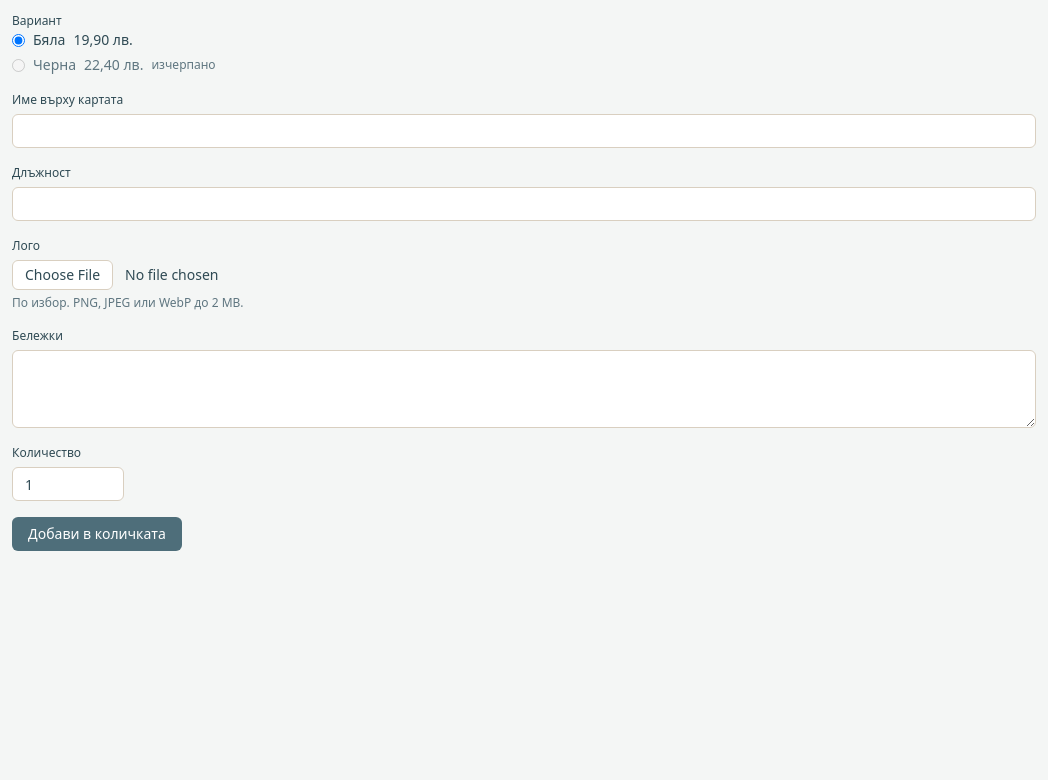
it: AddToCartForm › sends the folded line and shows the action message
In the field labelled "Име върху картата": (524, 131) left=12, top=114, right=1036, bottom=148, type "Иван Петров"
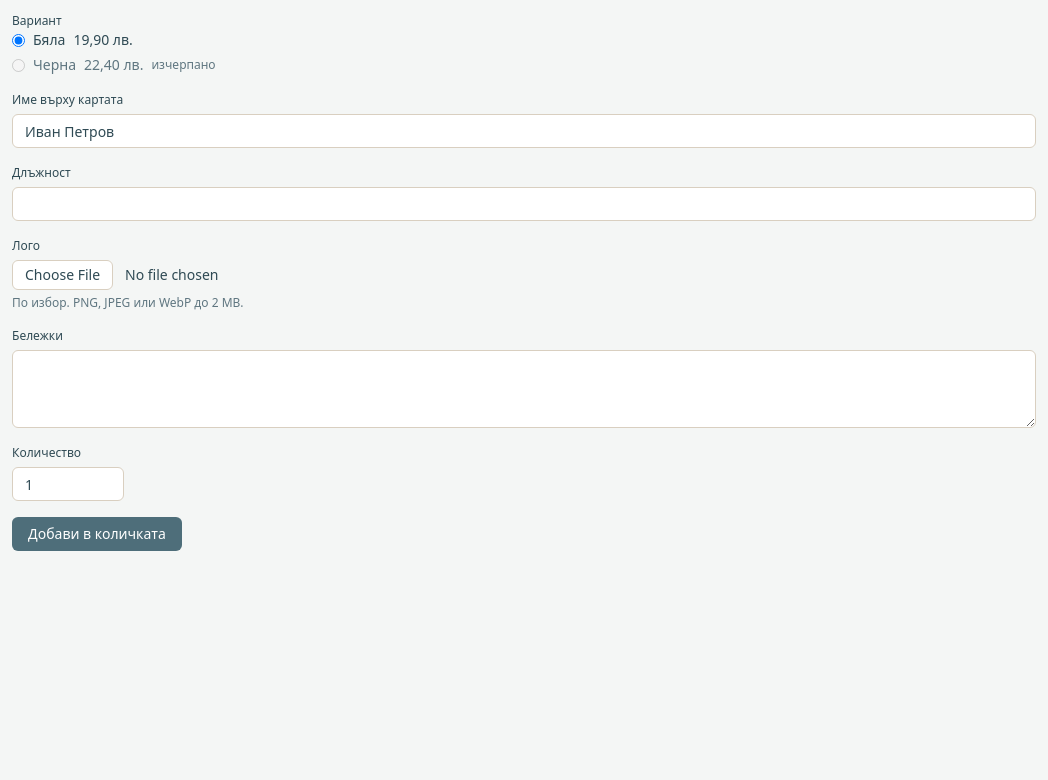
Replace the text in the number field labelled "Количество" with "3": (68, 484) left=12, top=467, right=124, bottom=501
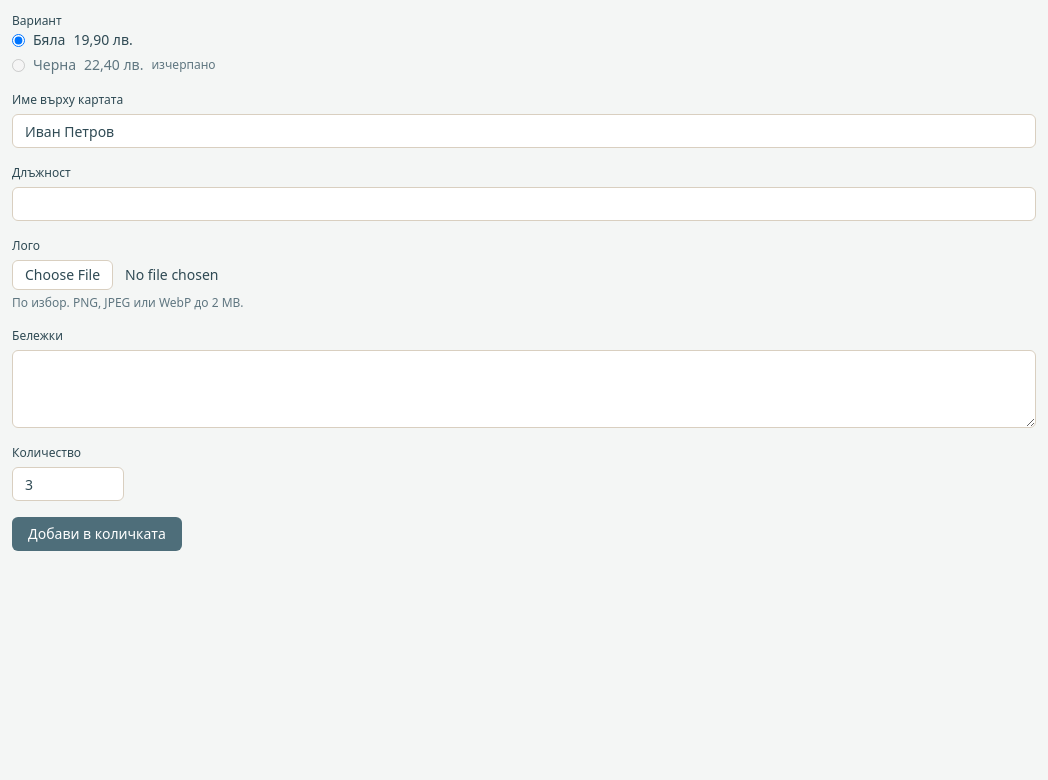
Submit the form from the button "Добави в количката", box left=12, top=517, right=182, bottom=551
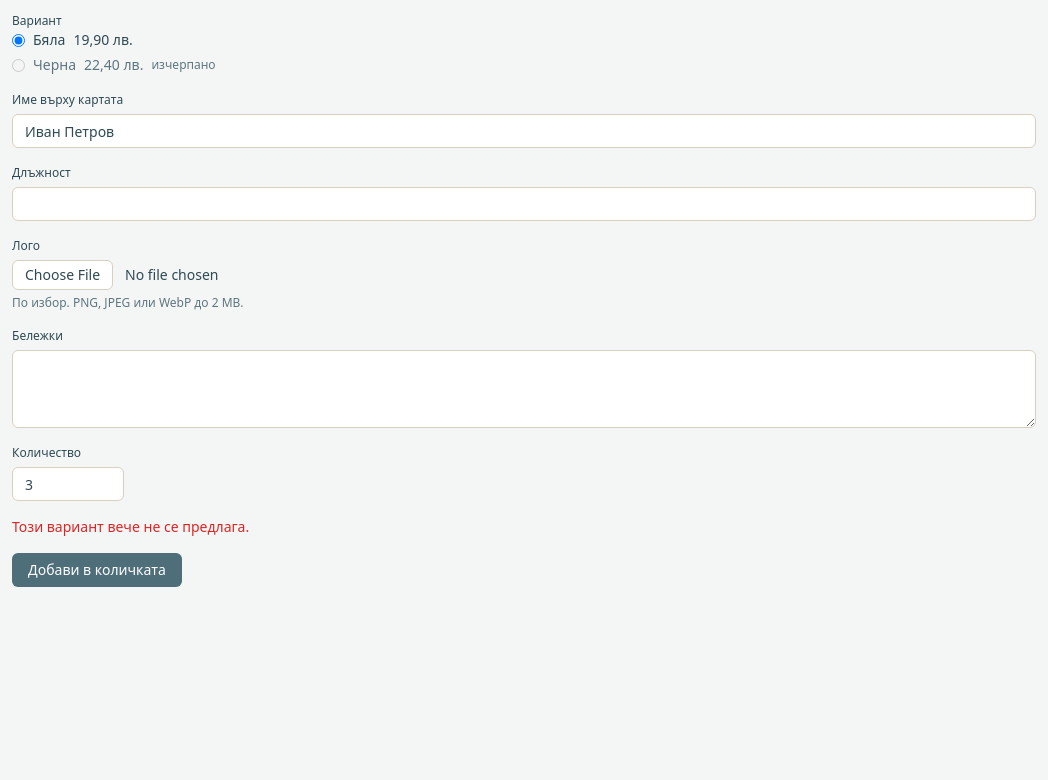
Result: the message reads "Този вариант вече не се предлага." at left=12, top=517, right=249, bottom=536
